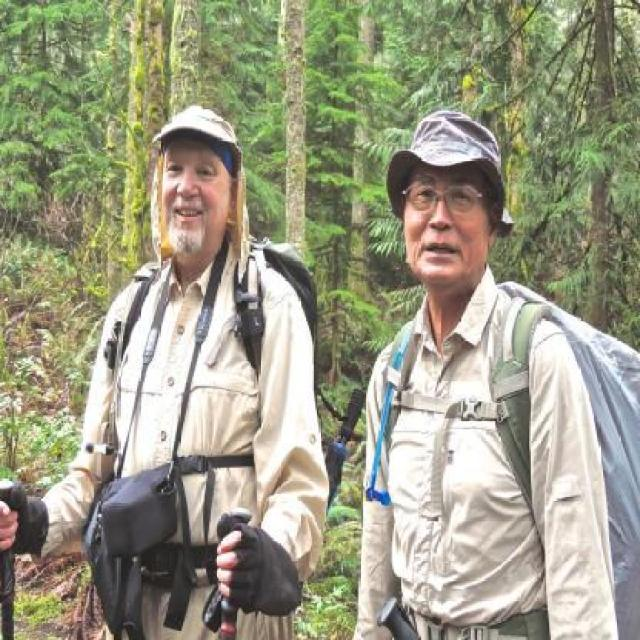backpack: (586, 295, 640, 640), (491, 286, 540, 482), (262, 231, 323, 343), (229, 237, 266, 368), (126, 257, 152, 354)
